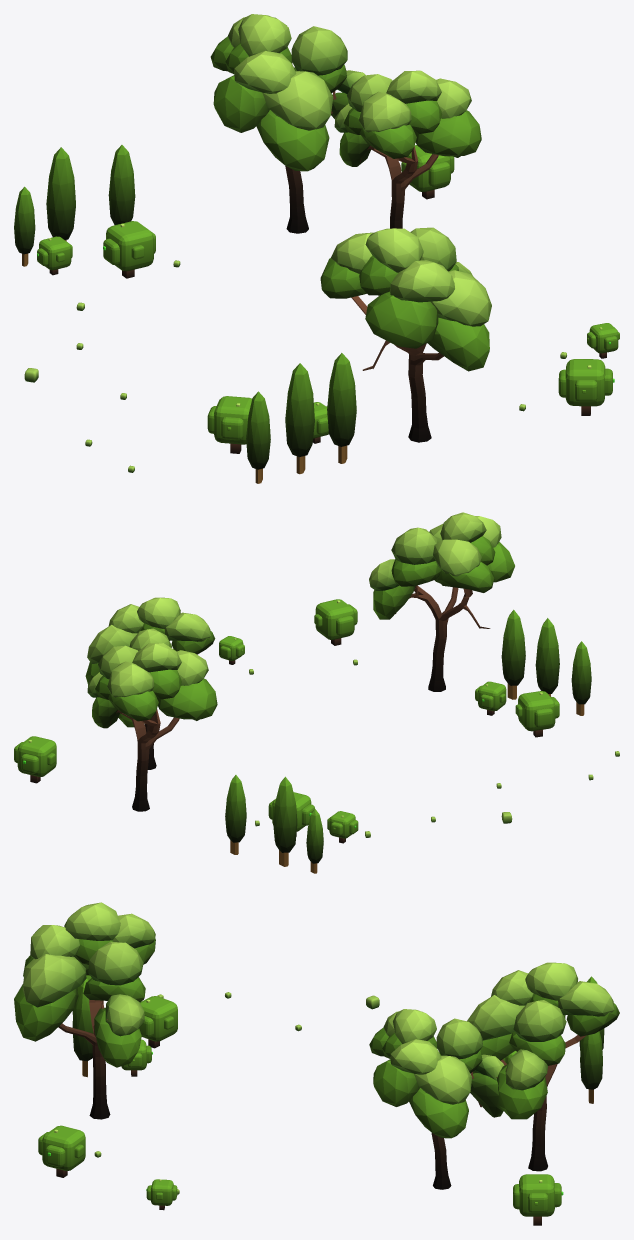
The model's file is all trees.fbx.
3 views of the same model, one above another, from view 1: azimuth 30°, elevation 25°; view 2: azimuth 150°, elevation 25°; view 3: azimuth 270°, elevation 25° (orthographic). The views are drawn at different scales.
Visible parts, largest first — view 1: big tree; view 2: big tree; view 3: big tree.
Boxes of the visible parts, x1,y1,x2,y2 form: big tree: (14,14,619,483); big tree: (14,512,619,873); big tree: (14,902,619,1225).
Size of the model in its own units: 75.67 by 29.39 by 81.91.
1 material, 1 textured.
